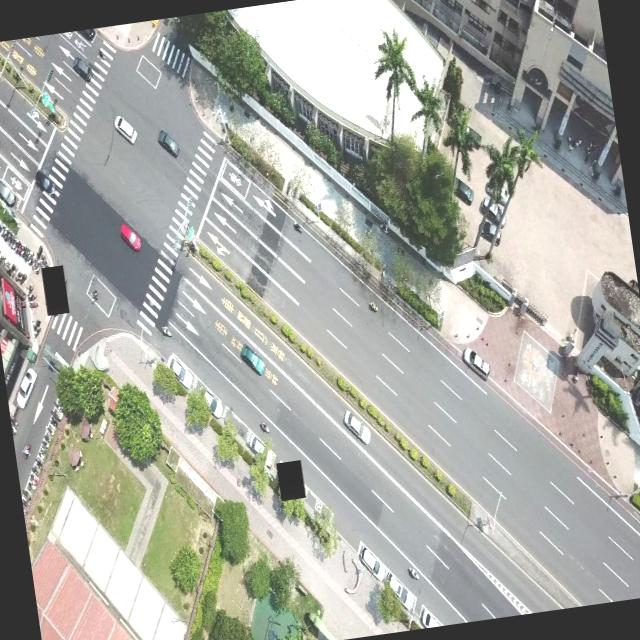bike: (290, 216, 310, 245), (362, 290, 380, 320), (403, 556, 422, 584), (22, 442, 32, 459), (258, 418, 268, 433)
car: (10, 365, 42, 410), (358, 536, 386, 585), (388, 568, 416, 616), (340, 407, 372, 448), (461, 344, 491, 383), (167, 348, 193, 392), (239, 340, 267, 379), (118, 217, 144, 255), (242, 429, 268, 465), (112, 112, 138, 147), (156, 125, 181, 160), (34, 167, 59, 200), (72, 54, 91, 84), (0, 173, 16, 206)
